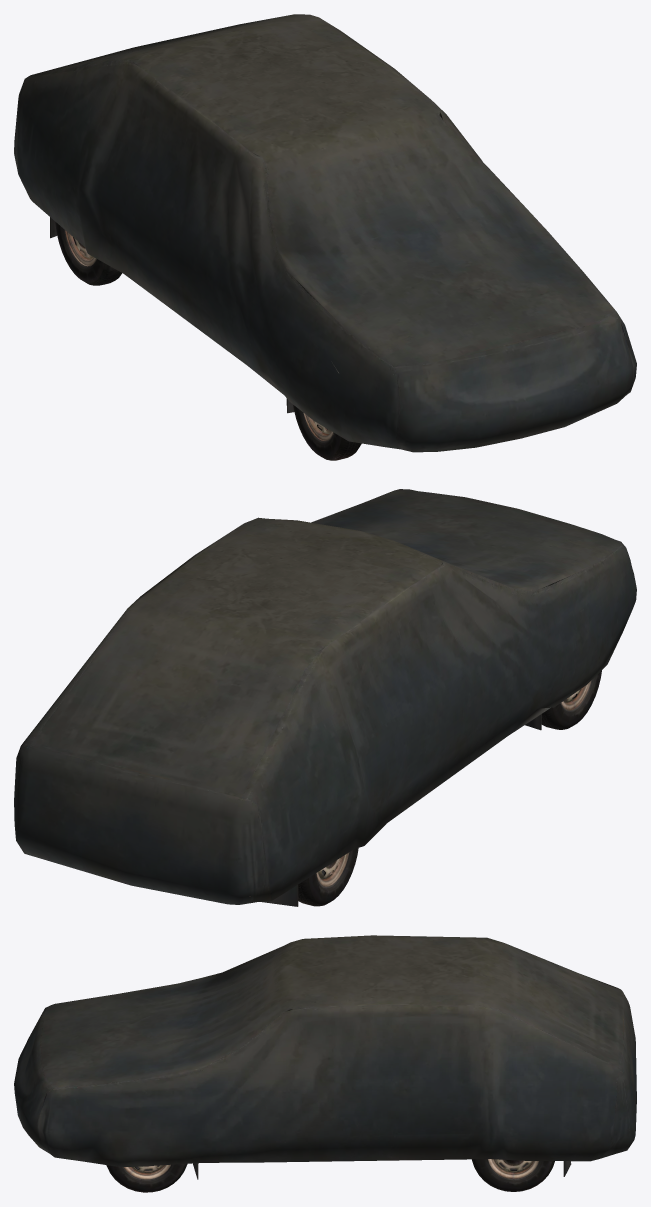
File: covered_car.glb
3 renders of one model, top to bottom at view 1: azimuth 30°, elevation 25°; view 2: azimuth 150°, elevation 25°; view 3: azimuth 270°, elevation 25°, orthographic. The views are drawn at different scales.
Visible parts, largest first — view 1: covered_car, covered_car_wheel_03, covered_car_wheel_02; view 2: covered_car, covered_car_wheel_03, covered_car_wheel_02; view 3: covered_car, covered_car_wheel_04, covered_car_wheel_01.
Boxes of the visible parts, left/top/right/bottom form: covered_car: left=14, top=14, right=636, bottom=452; covered_car_wheel_03: left=55, top=222, right=121, bottom=285; covered_car_wheel_02: left=293, top=405, right=361, bottom=460; covered_car: left=14, top=489, right=636, bottom=906; covered_car_wheel_03: left=298, top=848, right=358, bottom=906; covered_car_wheel_02: left=541, top=670, right=601, bottom=729; covered_car: left=14, top=935, right=636, bottom=1179; covered_car_wheel_04: left=472, top=1159, right=554, bottom=1191; covered_car_wheel_01: left=106, top=1163, right=187, bottom=1192.
Size of the model in its own units: 1.79 by 1.41 by 4.38.
1 material, 1 textured.
